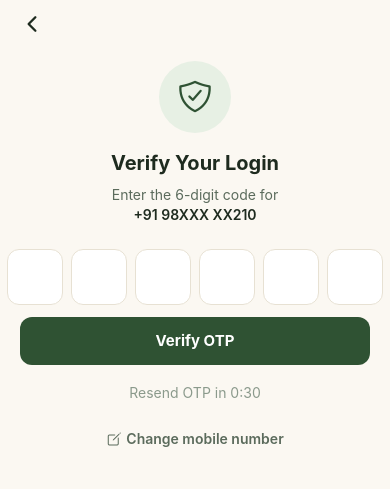
Test case: OTPVerificationScreen › shows an error and clears the digits when verification fails
The image size is (390, 489).
Type "1" into the field named "Digit 1 of 6".
click(35, 277); type("1")  # box [7, 249, 63, 305]
Type "2" into the field named "Digit 2 of 6".
click(99, 277); type("2")  # box [71, 249, 127, 305]
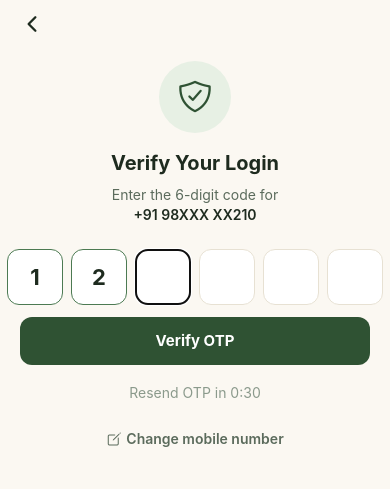
Type "3" into the field named "Digit 3 of 6".
click(163, 277); type("3")  # box [135, 249, 191, 305]
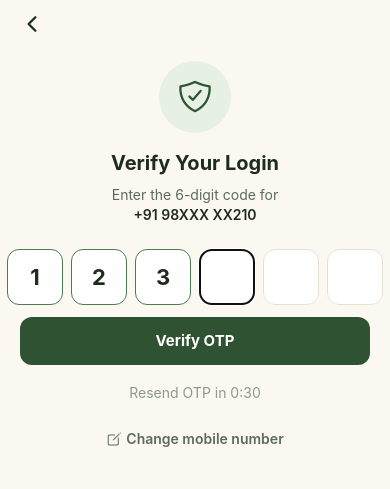
Type "4" into the field named "Digit 4 of 6".
click(227, 277); type("4")  # box [199, 249, 255, 305]
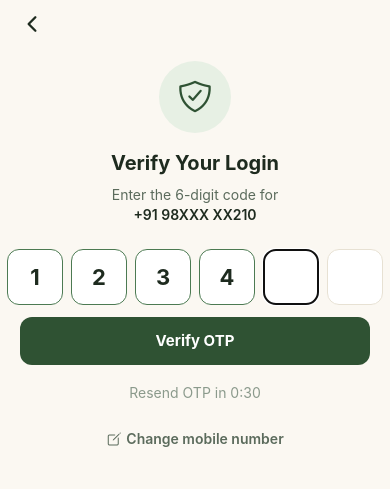
Type "5" into the field named "Digit 5 of 6".
click(291, 277); type("5")  # box [263, 249, 319, 305]
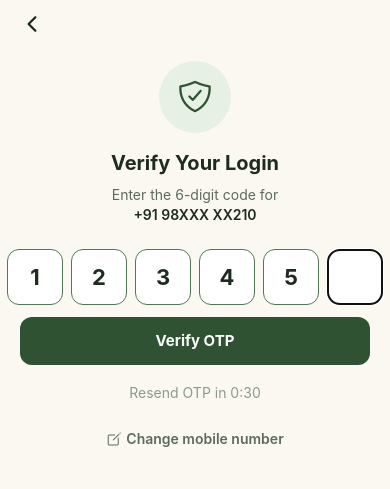
Type "6" into the field named "Digit 6 of 6".
click(355, 277); type("6")  # box [327, 249, 383, 305]
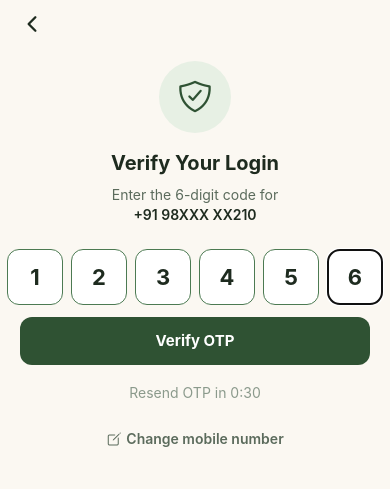
Click the button "Verify OTP".
click(195, 341)  # box [20, 317, 370, 365]
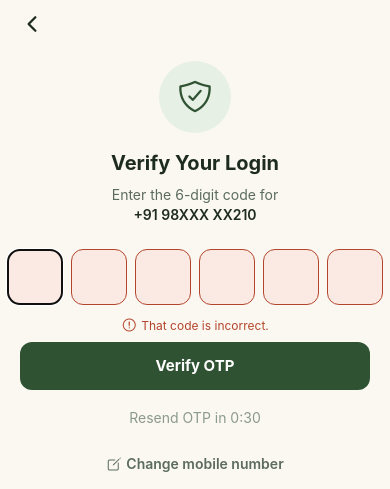
expect the text "That code is incorrect." is shown: met, box [141, 318, 269, 334]
expect the field named "Digit 1 of 6" is empty: met, box [7, 249, 63, 305]
